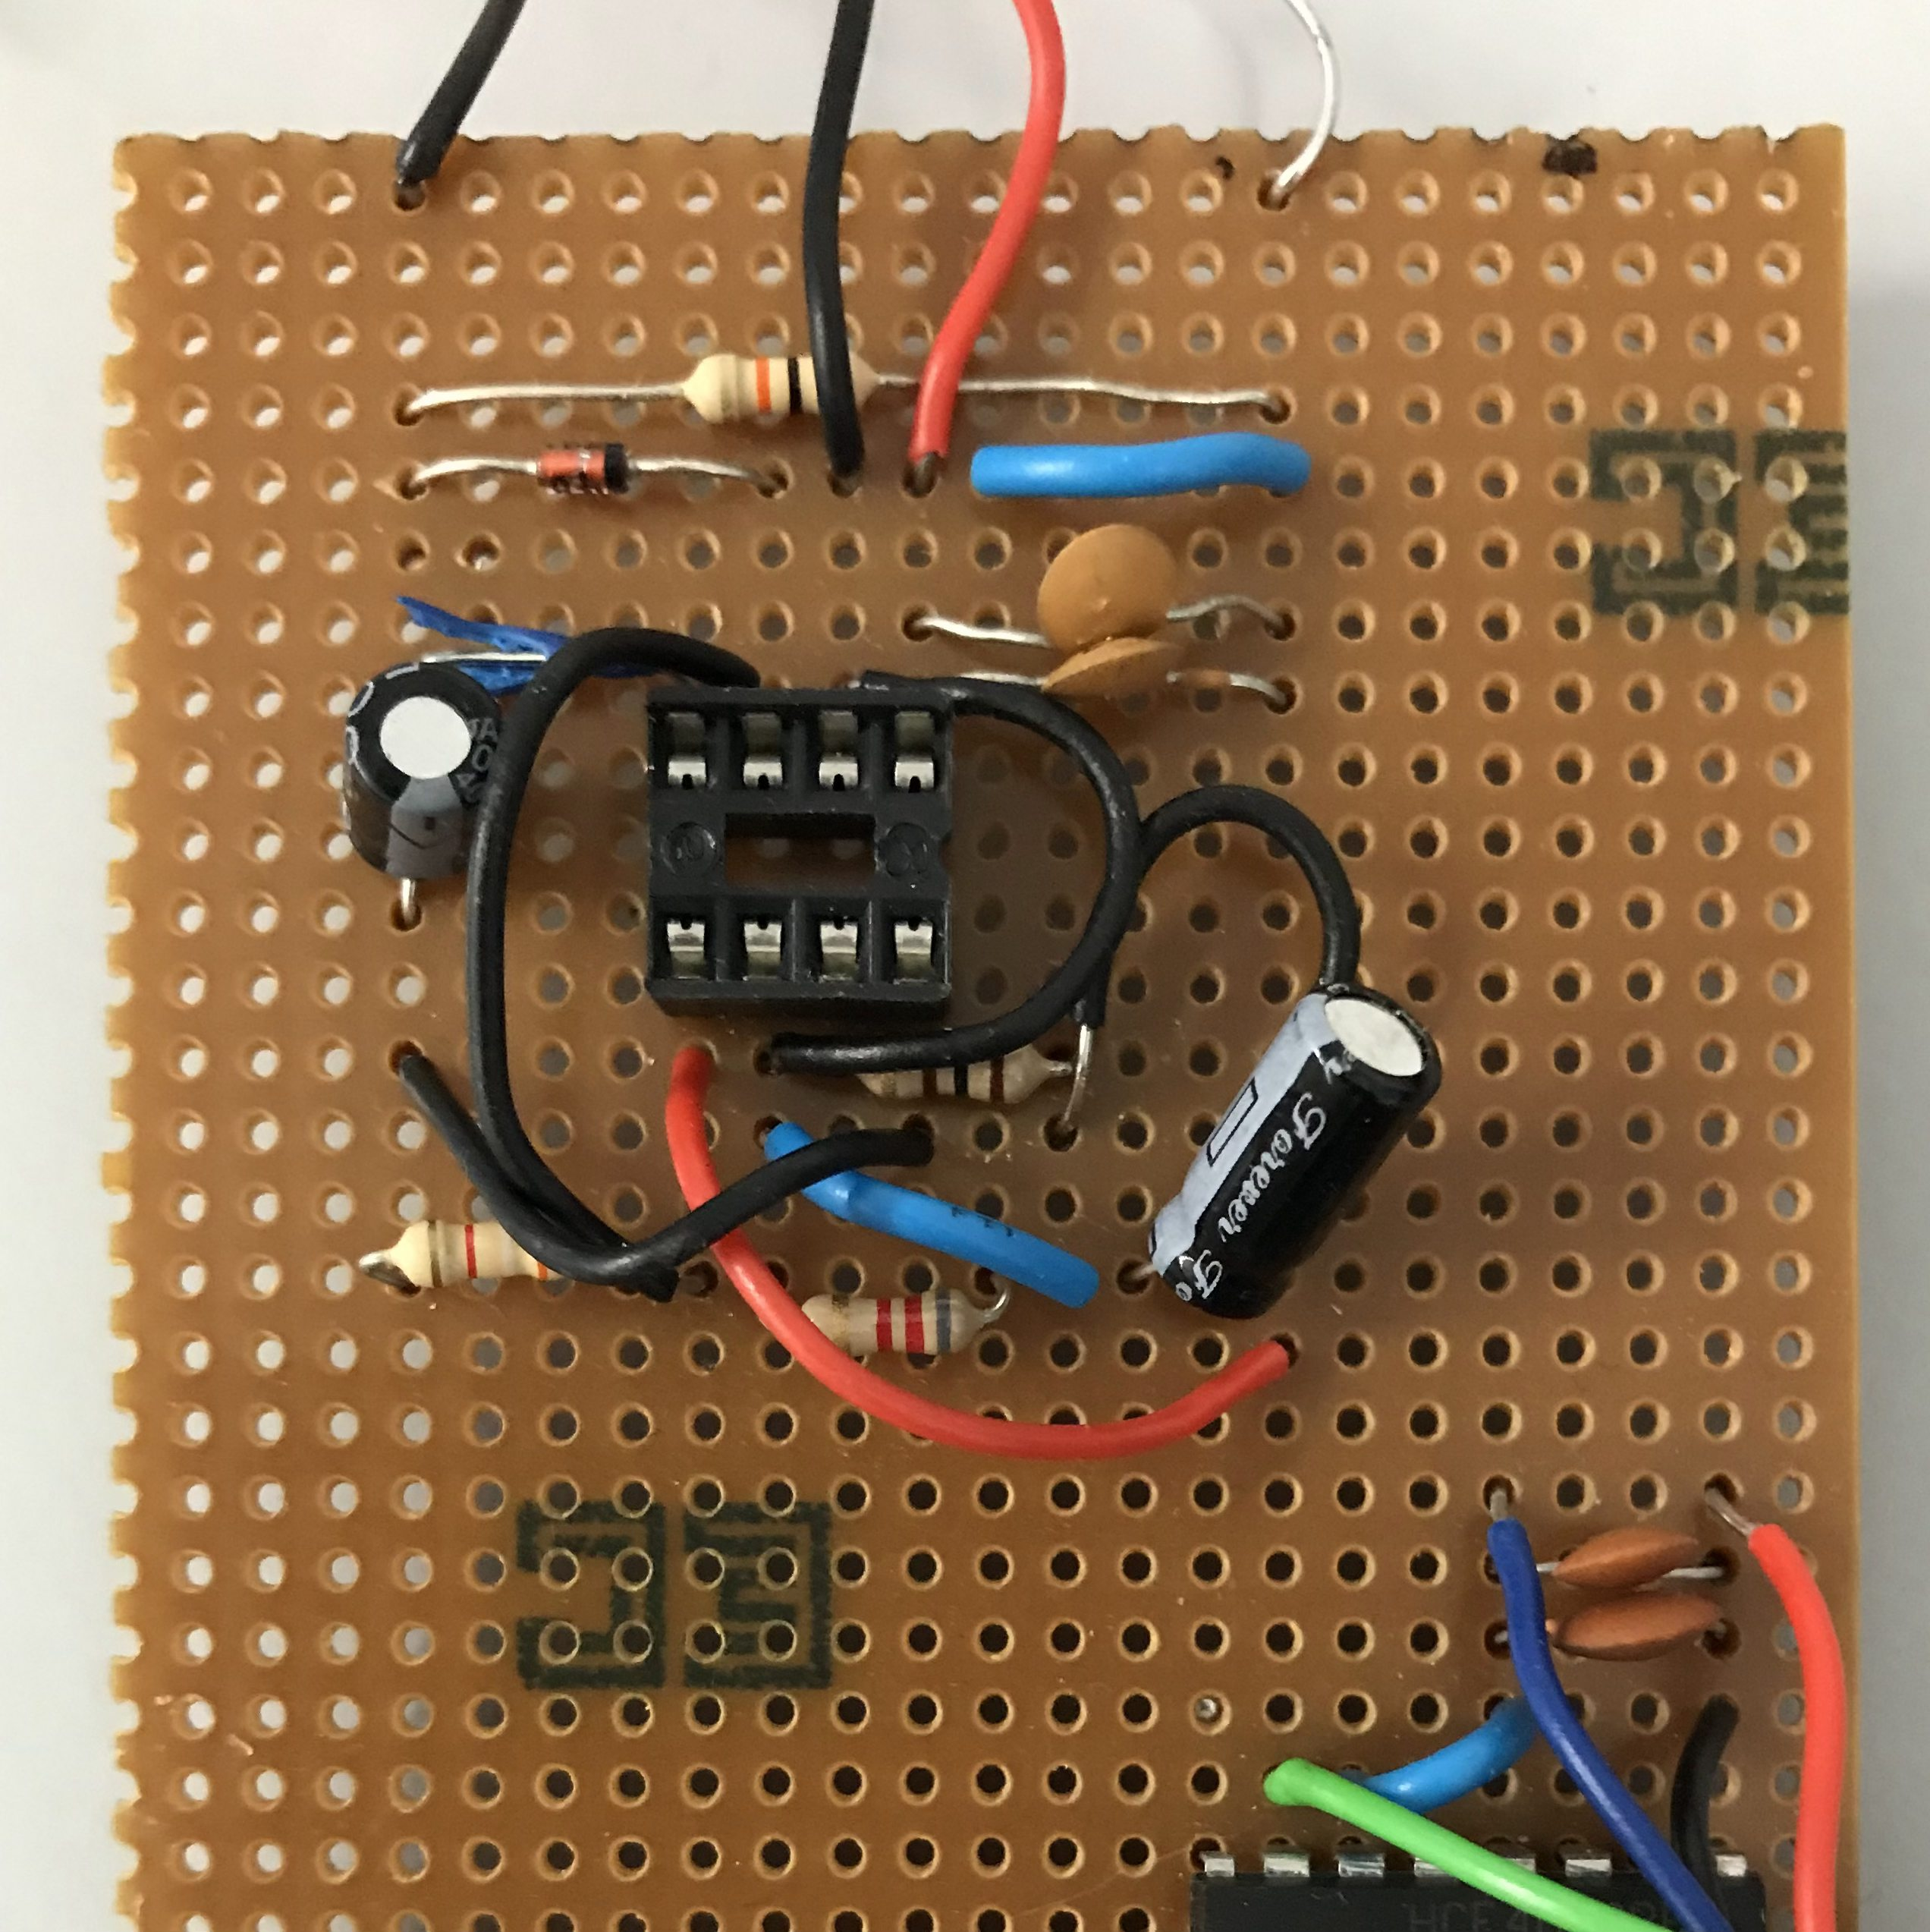Capacitor: (1136, 970, 1446, 1333), (332, 658, 513, 894)
Diode: (521, 431, 649, 502)
Resistor: (650, 339, 907, 426), (836, 1018, 1066, 1114), (378, 1213, 587, 1297), (781, 1283, 997, 1361)
